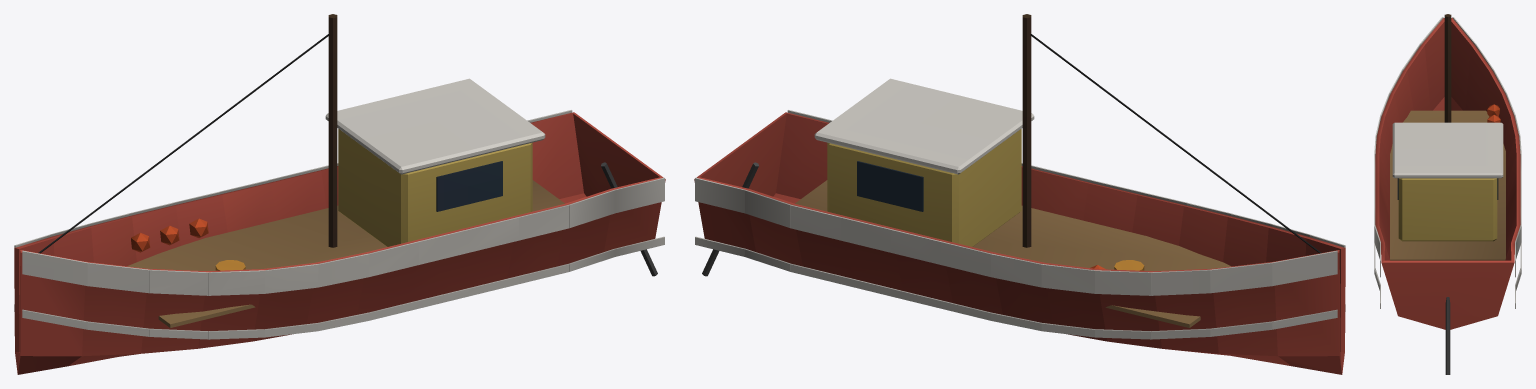
The model's file is mi_fboat_b-li7XmRjt.glb.
3 views of the same model, side by side, from view 1: azimuth 30°, elevation 25°; view 2: azimuth 150°, elevation 25°; view 3: azimuth 270°, elevation 25° (orthographic). The views are drawn at different scales.
Bounding box in the file's own units: 8.74 × 4.42 × 2.4.
